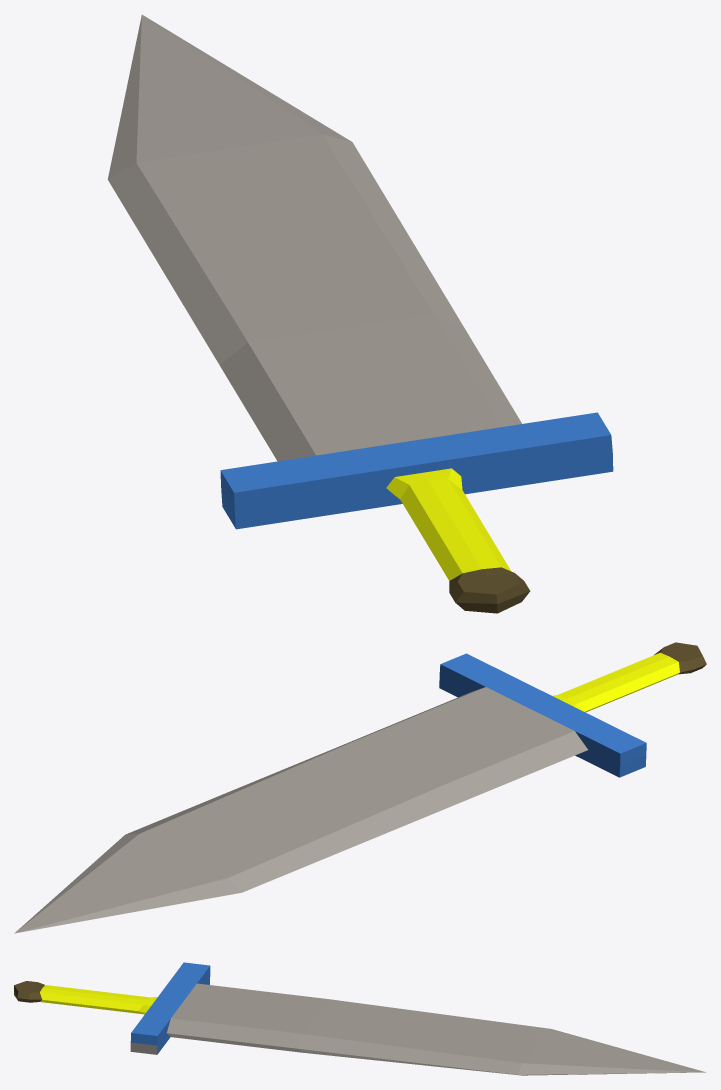
Rendered from Sword_v_003.fbx.
3 renders of one model, top to bottom at view 1: azimuth 30°, elevation 25°; view 2: azimuth 150°, elevation 25°; view 3: azimuth 270°, elevation 25°, orthographic. The views are drawn at different scales.
Visible parts, largest first — view 1: SwordGeo; view 2: SwordGeo; view 3: SwordGeo.
Part boxes in pixels (left/top/right/bottom): SwordGeo: left=107, top=14, right=613, bottom=613; SwordGeo: left=14, top=642, right=706, bottom=933; SwordGeo: left=14, top=962, right=706, bottom=1075.
Bounding box in the file's own units: 115 × 13.14 × 305.
